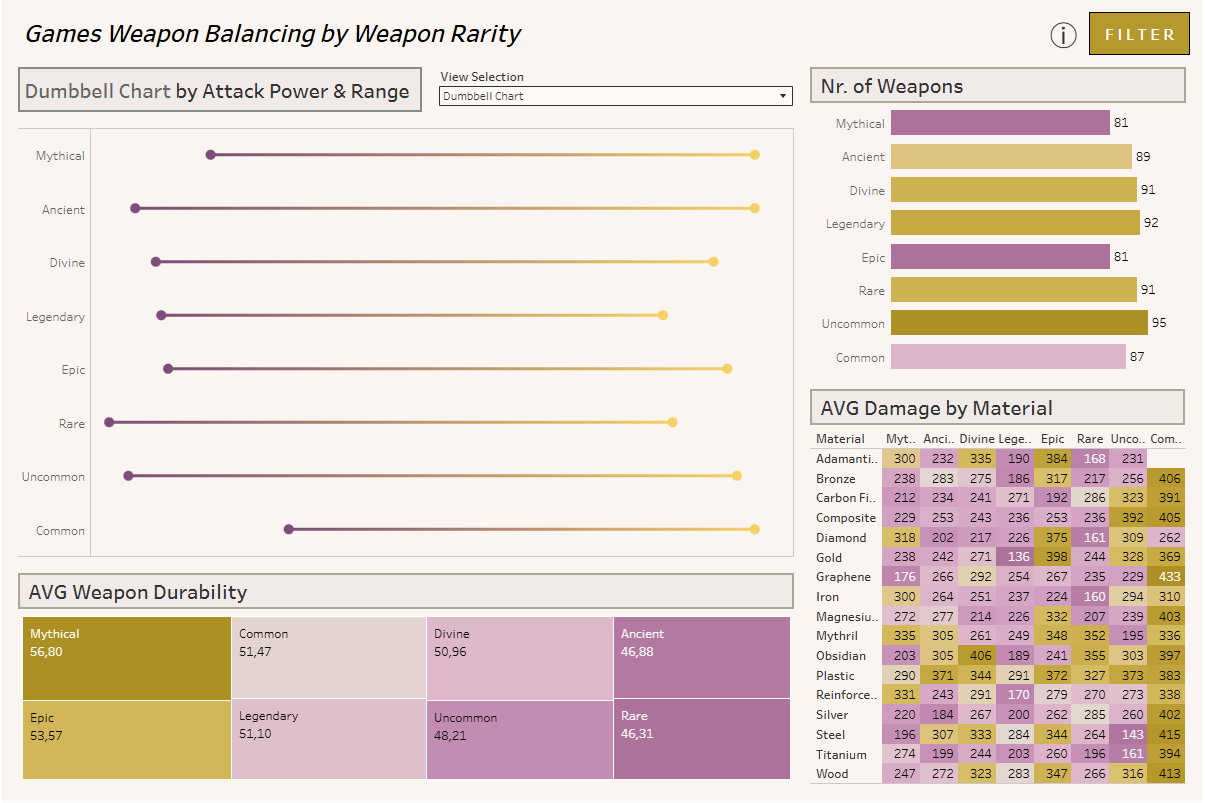

What the dashboard file says about the page in this screenshot:
{"tool":"tableau","page":{"name":"Games Weapon Balancing by Weapon Rarity","canvas":[1200,800],"ordinal":0},"visuals":[{"type":"text","box":[8,8,791,49]},{"type":"blank","box":[799,8,241,51]},{"type":"worksheet","title":"Info Button","mark":"Automatic","box":[1040,8,43,51]},{"type":"dashboard-object","box":[1083,8,109,51]},{"type":"text","box":[8,59,420,61]},{"type":"parameter","param":"[Parameters].[Parameter 1]","box":[428,59,372,61]},{"type":"worksheet","title":"Nr. of Weapons","mark":"Bar","rows":["Rarity"],"cols":["weapons_dataset_unbalanced.csv_B943B6A38FA04796848ED95D9D5E0"],"box":[800,59,392,321.9]},{"type":"text","box":[924,66,275,47]},{"type":"text","box":[924,113,275,34]},{"type":"worksheet","title":"Damage Range (Dumbbell)","mark":"Circle","rows":["Rarity"],"box":[8,120,792,445]},{"type":"filter","title":"Damage Range (Dumbbell)","param":"[federated.006es6e185jma51a1oxma1fv5ktj].[none:Rarity:nk]","box":[924,147,275,190]},{"type":"highlighter","title":"Nr. of Weapons","param":"[federated.006es6e185jma51a1oxma1fv5ktj].[none:Rarity:nk]","box":[924,337,275,34]},{"type":"blank","box":[924,371,275,38]},{"type":"worksheet","title":"AVG Damage by Material","mark":"Square","rows":["Material"],"cols":["Rarity"],"box":[800,380.9,392,411]},{"type":"text","box":[924,409,275,42]},{"type":"legend","title":"AVG Damage by Material","param":"[federated.006es6e185jma51a1oxma1fv5ktj].[avg:AttackPower:qk]","box":[924,451,275,54]},{"type":"legend","title":"Nr. of Weapons","param":"[federated.006es6e185jma51a1oxma1fv5ktj].[__tableau_internal_object_id__].[cnt:w","box":[924,505,275,53]},{"type":"legend","title":"AVG Weapon Durability","param":"[federated.006es6e185jma51a1oxma1fv5ktj].[avg:Durability:qk]","box":[924,558,275,60]},{"type":"worksheet","title":"AVG Weapon Durability","mark":"Automatic","box":[8,565,792,227]}]}

Visuals, with their boxes in screenshot pixels (x1, y1, x2, y2), scaled from the page's 1200x800 canvas onto the 1205x803 screenshot:
text: left=8, top=8, right=802, bottom=57
blank: left=802, top=8, right=1044, bottom=59
"Info Button" worksheet: left=1044, top=8, right=1088, bottom=59
dashboard-object: left=1088, top=8, right=1197, bottom=59
text: left=8, top=59, right=430, bottom=120
parameter: left=430, top=59, right=803, bottom=120
"Nr. of Weapons" worksheet (Bar marks): left=803, top=59, right=1197, bottom=382
text: left=928, top=66, right=1204, bottom=113
text: left=928, top=113, right=1204, bottom=148
"Damage Range (Dumbbell)" worksheet (Circle marks): left=8, top=120, right=803, bottom=567
"Damage Range (Dumbbell)" filter: left=928, top=148, right=1204, bottom=338
"Nr. of Weapons" highlighter: left=928, top=338, right=1204, bottom=372
blank: left=928, top=372, right=1204, bottom=411
"AVG Damage by Material" worksheet (Square marks): left=803, top=382, right=1197, bottom=795
text: left=928, top=411, right=1204, bottom=453
"AVG Damage by Material" legend: left=928, top=453, right=1204, bottom=507
"Nr. of Weapons" legend: left=928, top=507, right=1204, bottom=560
"AVG Weapon Durability" legend: left=928, top=560, right=1204, bottom=620
"AVG Weapon Durability" worksheet: left=8, top=567, right=803, bottom=795
